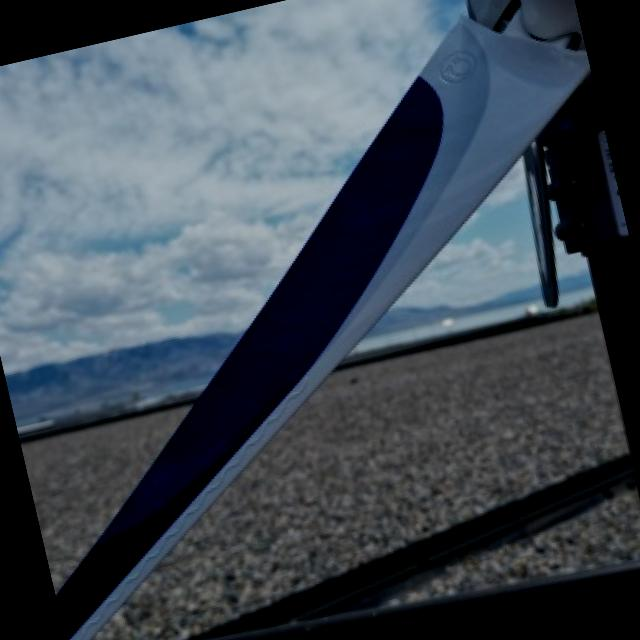healthy: (150, 494, 294, 618)
